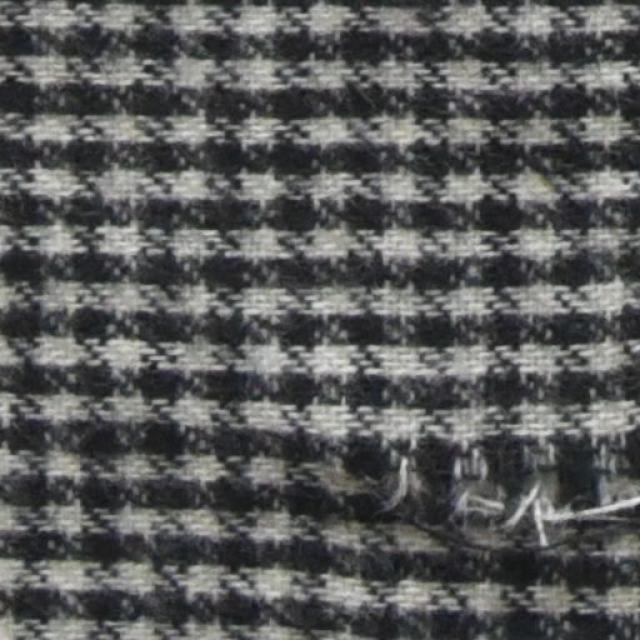Snag: (360, 417, 638, 560)
